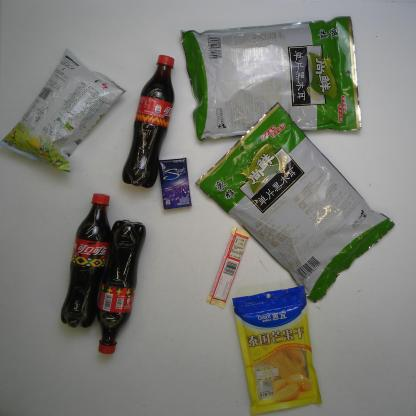Chocolate: (204, 223, 252, 311)
Dried Food: (194, 99, 396, 305), (179, 13, 364, 144)
Dried Fruit: (231, 283, 325, 416)
Drink: (121, 53, 177, 190), (94, 218, 148, 356), (60, 192, 112, 330)
Gum: (158, 155, 193, 211)
Puffed Food: (0, 47, 129, 176)
